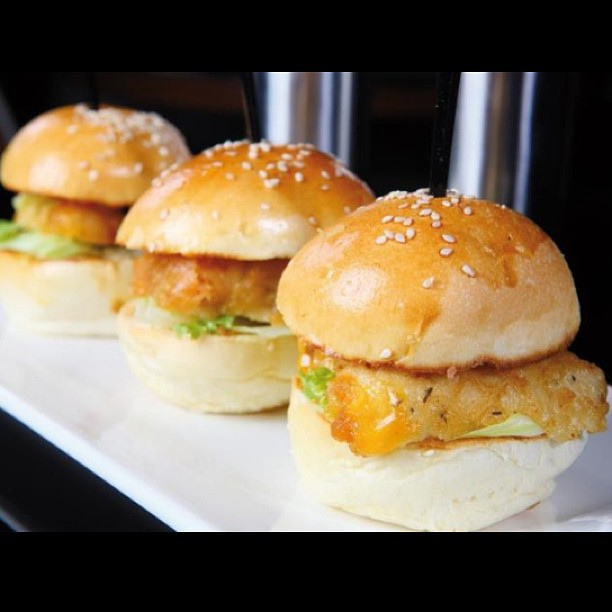slice of bread: (293, 195, 568, 363), (292, 406, 569, 532), (129, 147, 371, 258), (112, 314, 299, 427), (10, 107, 170, 193), (1, 256, 138, 329)
